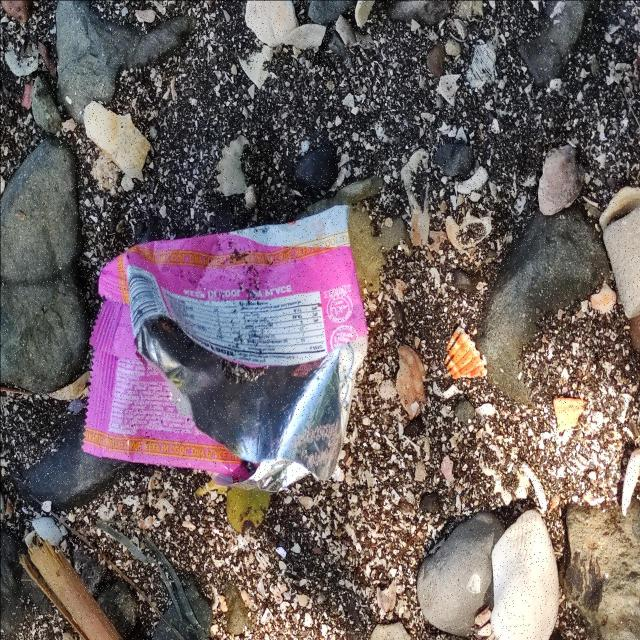plastic_waste: (79, 211, 366, 487)
